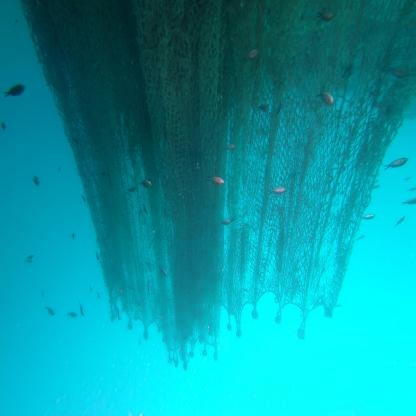net: (41, 0, 406, 310)
